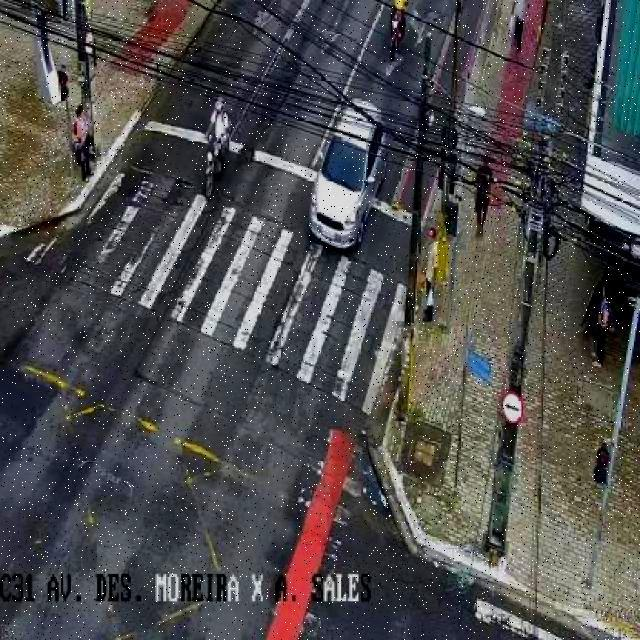Car: (310, 98, 389, 253)
Cycle: (202, 129, 232, 196), (385, 8, 407, 61)
